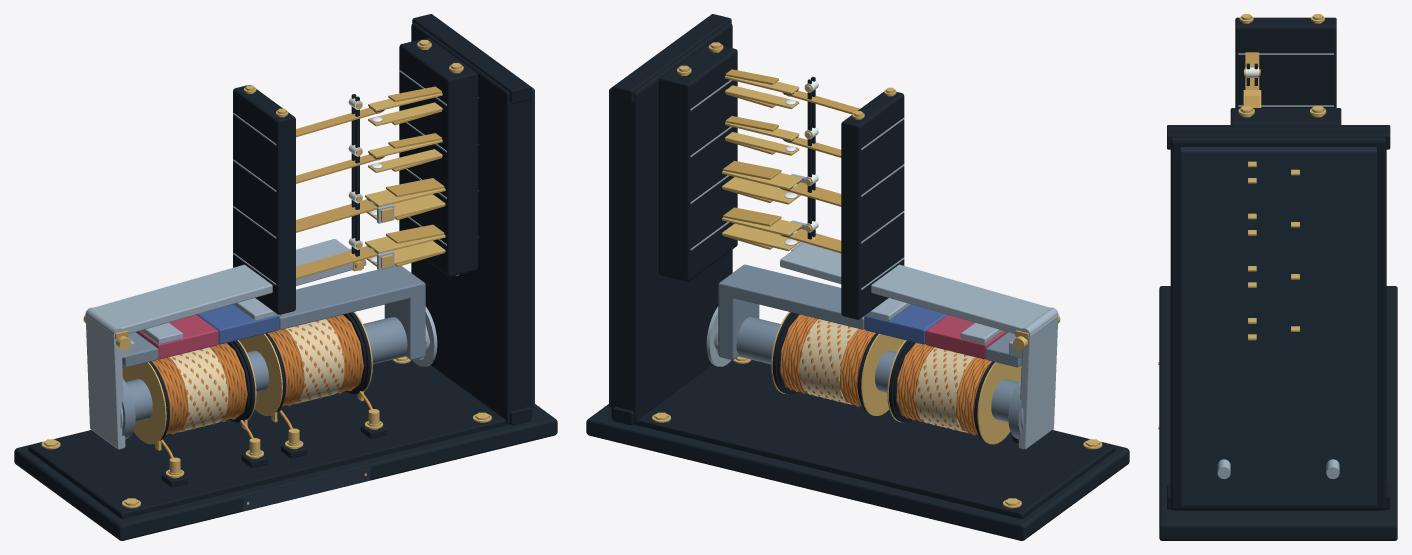
Rendered from JYJXC-220-220-picked.glb.
3 views of the same model, side by side, from view 1: azimuth 30°, elevation 25°; view 2: azimuth 150°, elevation 25°; view 3: azimuth 270°, elevation 25° (orthographic). The views are drawn at different scales.
Visible parts, largest first — view 1: base (×6), contactBlock (×2), coil (×6), armature (×2), yoke (×3), permanent (×2), common (×4), core, back (×4), front (×2); view 2: base (×5), contactBlock (×2), coil (×6), armature (×2), yoke (×3), permanent (×2), back (×4), core, front (×2); view 3: base (×4), contactBlock (×2), common.
Part boxes in pixels (bbox=[...]): base (×6): bbox=[14, 14, 557, 540]; contactBlock (×2): bbox=[233, 38, 477, 314]; coil (×6): bbox=[122, 314, 363, 444]; armature (×2): bbox=[85, 239, 352, 449]; yoke (×3): bbox=[122, 265, 425, 367]; permanent (×2): bbox=[136, 304, 279, 359]; common (×4): bbox=[296, 107, 383, 279]; core: bbox=[125, 317, 407, 422]; back (×4): bbox=[366, 102, 445, 266]; front (×2): bbox=[386, 178, 444, 243]; base (×5): bbox=[586, 14, 1129, 540]; contactBlock (×2): bbox=[659, 42, 904, 319]; coil (×6): bbox=[780, 314, 1021, 444]; armature (×2): bbox=[780, 242, 1058, 449]; yoke (×3): bbox=[718, 264, 1021, 367]; permanent (×2): bbox=[864, 304, 1007, 359]; back (×4): bbox=[722, 85, 800, 251]; core: bbox=[736, 317, 1018, 422]; front (×2): bbox=[723, 161, 781, 226]; base (×4): bbox=[1159, 125, 1397, 540]; contactBlock (×2): bbox=[1230, 17, 1341, 124]; common: bbox=[1245, 52, 1259, 89].
Size of the model in its own units: 6.05 by 4.73 by 2.55.
